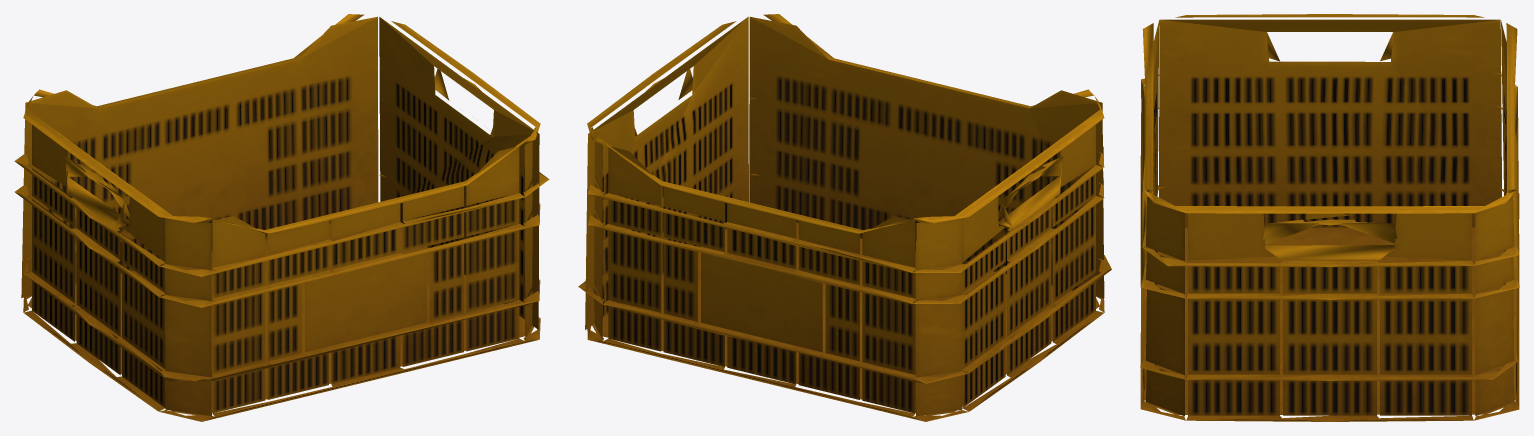
File: crate_plastic_02.glb
The picture shows the model from 3 angles, left to right: view 1: azimuth 30°, elevation 25°; view 2: azimuth 150°, elevation 25°; view 3: azimuth 270°, elevation 25°; orthographic projection. The views are drawn at different scales.
Parts seen in each view (by area): view 1: crate_plastic_02; view 2: crate_plastic_02; view 3: crate_plastic_02.
Part boxes in pixels (bbox=[...]): crate_plastic_02: bbox=[14, 14, 549, 421]; crate_plastic_02: bbox=[578, 14, 1111, 421]; crate_plastic_02: bbox=[1140, 14, 1519, 421].
Size of the model in its own units: 0.6373 by 0.32 by 0.5105.
Materials: 1 (1 with a texture image).
